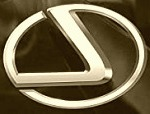Lexus: (1, 2, 150, 113)
